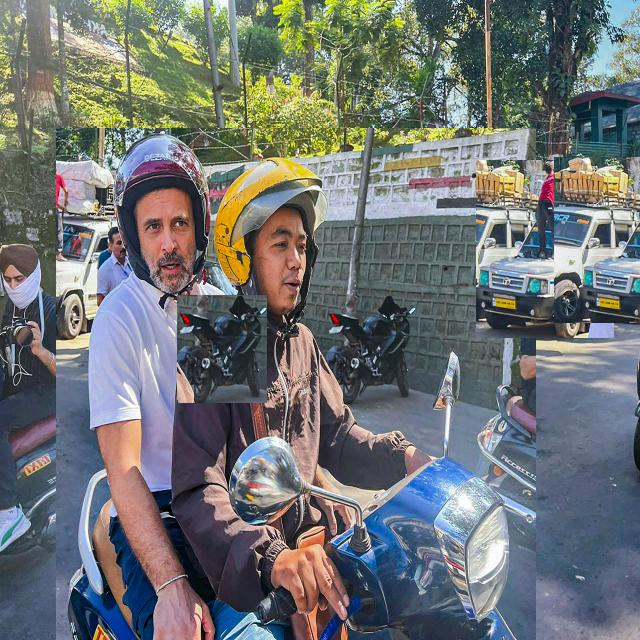motorcycle: (56, 128, 536, 640), (0, 235, 117, 569), (177, 295, 266, 403)
truck: (476, 160, 614, 338), (554, 157, 640, 323)
